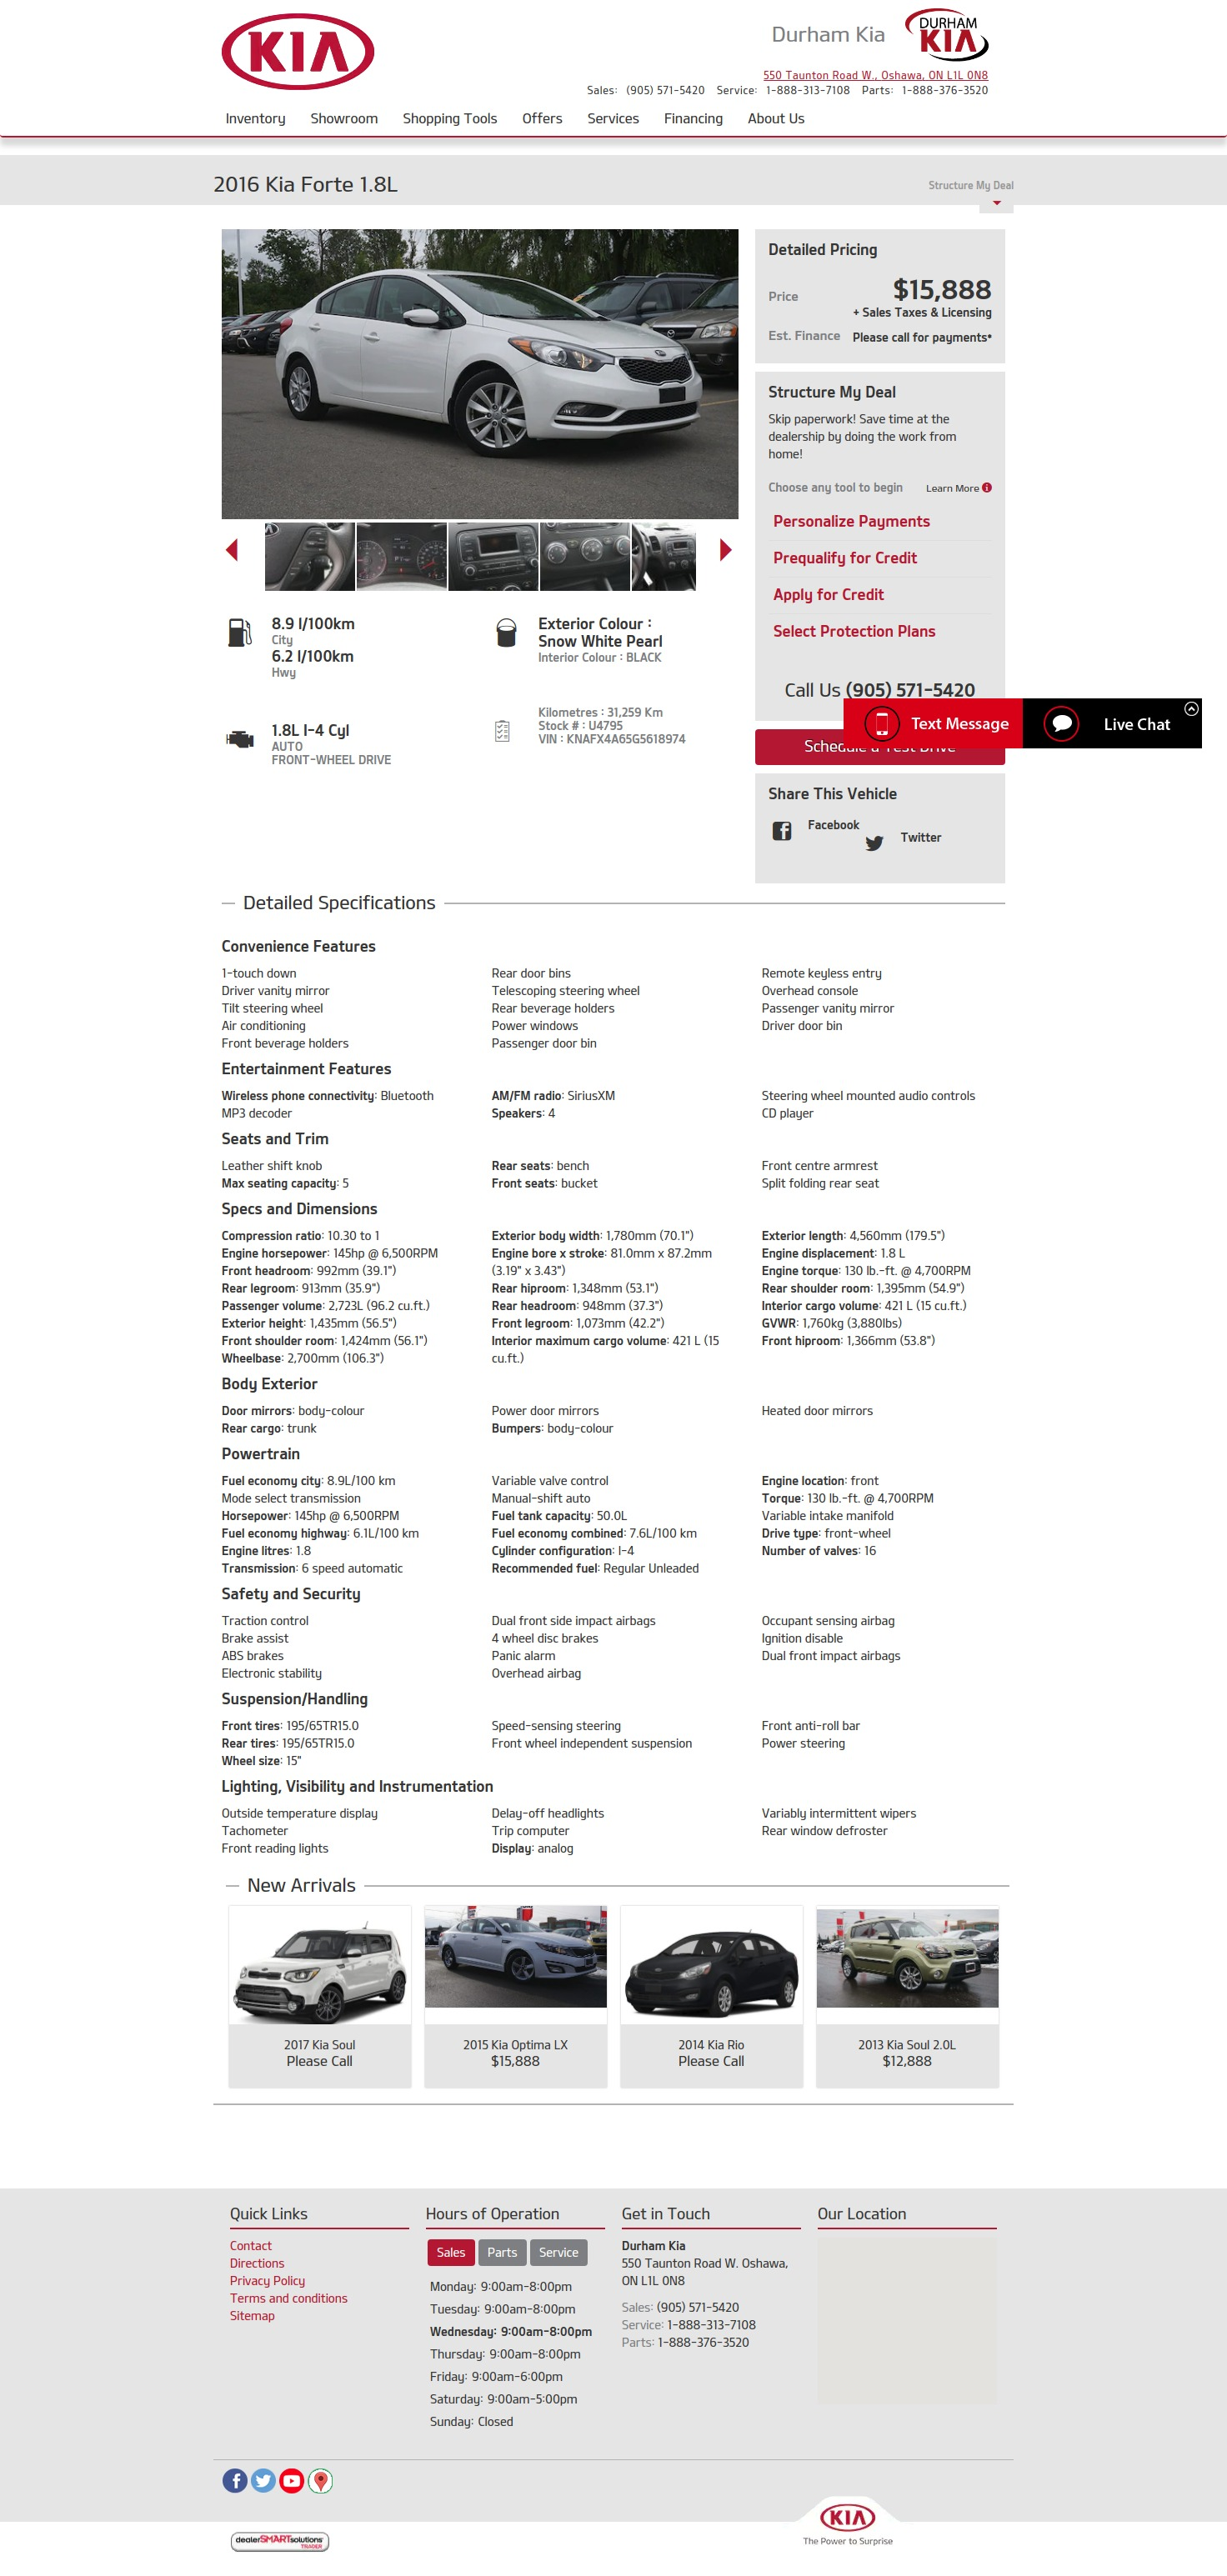car: (719, 539, 733, 563)
